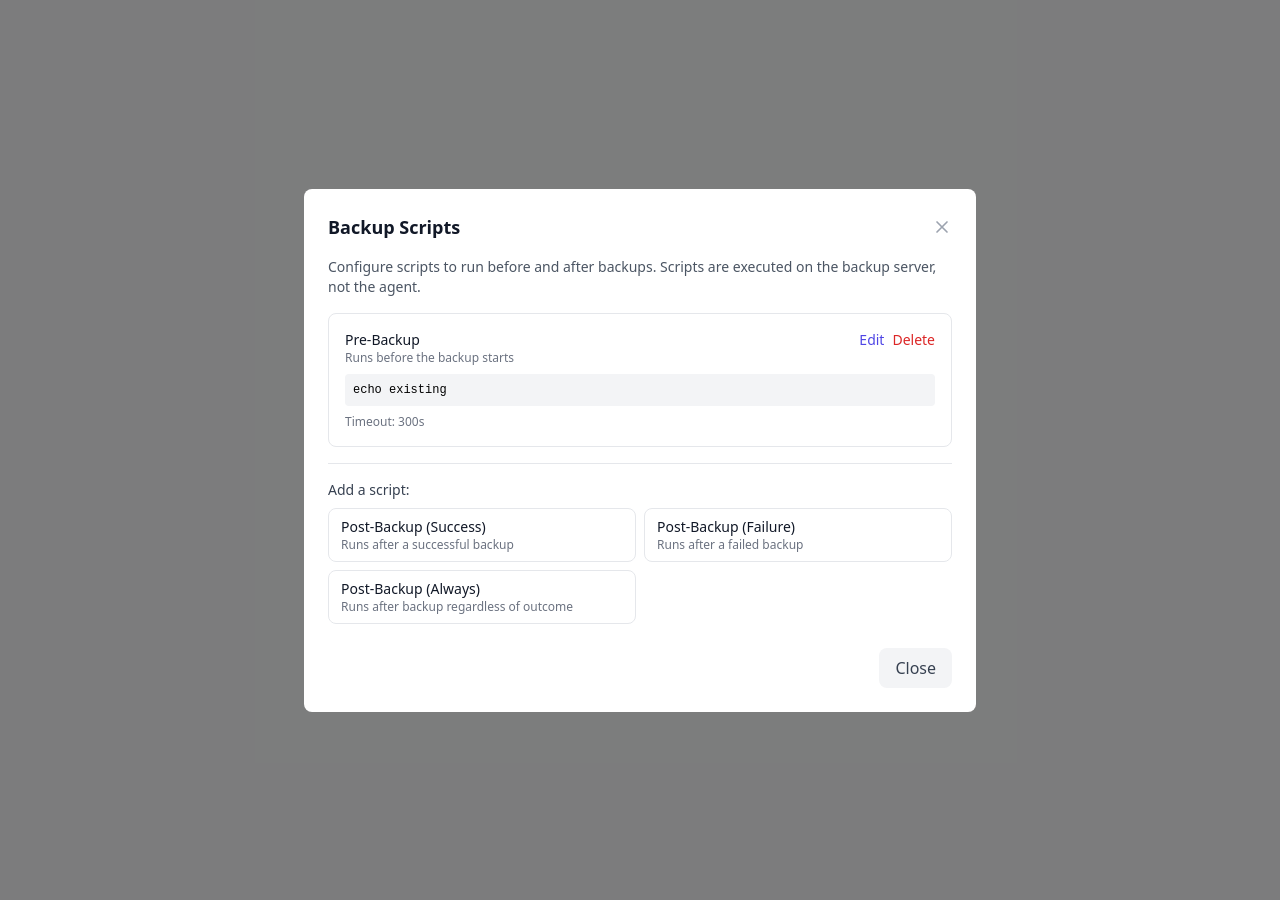
BackupScriptsEditor › opens edit form when clicking Edit on a card
The image size is (1280, 900).
What coordinates should you click on to do the following:
click the button "Edit"
I would click on:
 (872, 340)
Its box is x1=859 y1=330 x2=884 y2=350.
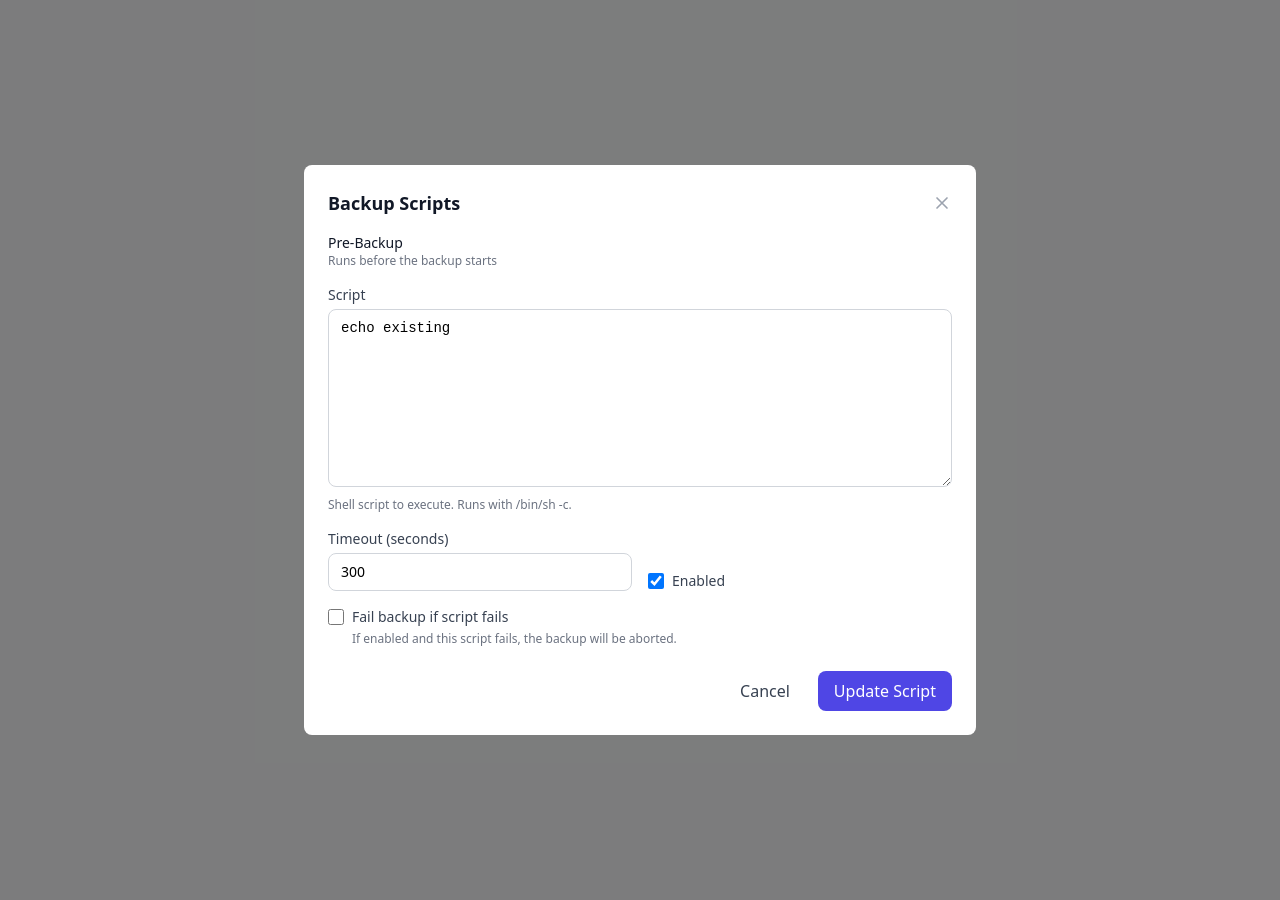
Expected: the button "Update Script" is shown, x1=818 y1=671 x2=952 y2=711
Expected: the text box showing "echo existing" is shown, x1=328 y1=309 x2=952 y2=487
